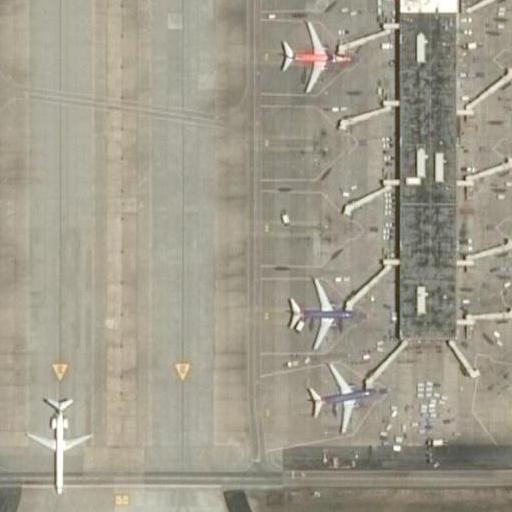Aircraft: (28, 389, 94, 491), (303, 361, 387, 433), (271, 23, 352, 88), (282, 279, 360, 345)
